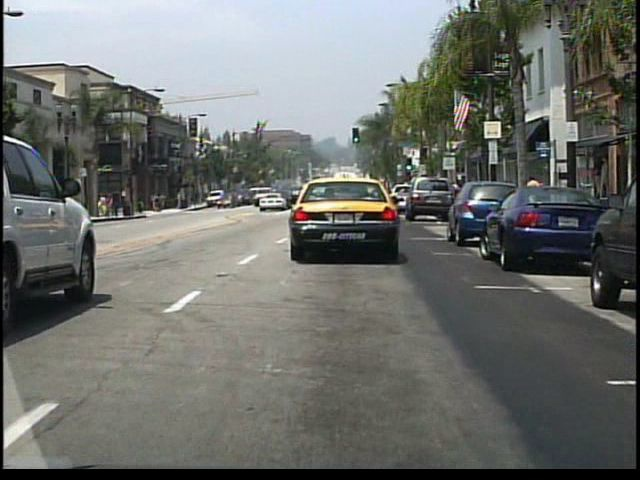person: (525, 174, 542, 216), (137, 190, 147, 213), (228, 187, 238, 210)
